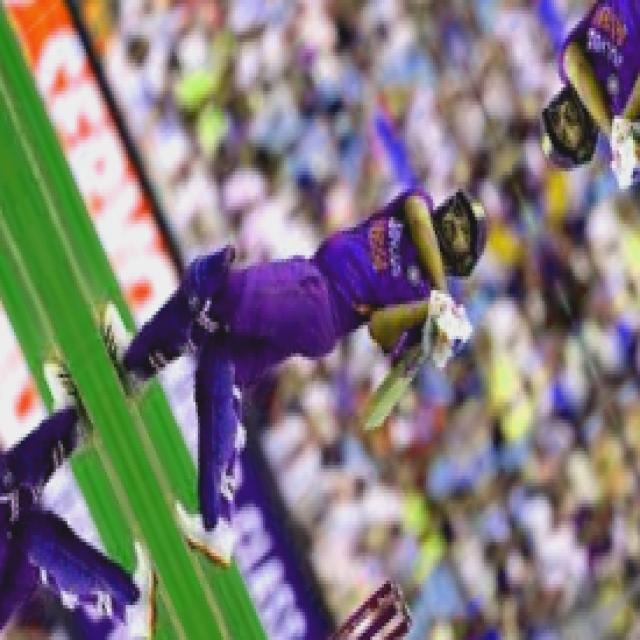toe: (352, 389, 393, 446)
